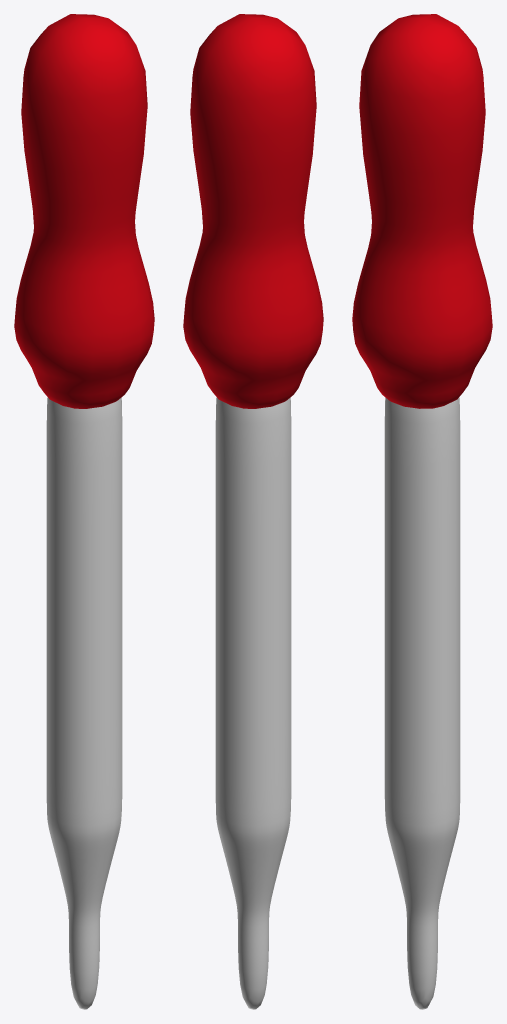
File: Pipet tetes.fbx
3 renders of one model, left to right at view 1: azimuth 30°, elevation 25°; view 2: azimuth 210°, elevation 25°; view 3: azimuth 330°, elevation 25°, orthographic.
Visible parts, largest first — view 1: Cube.055; view 2: Cube.055; view 3: Cube.055.
Part boxes in pixels (bbox=[...]): Cube.055: bbox=[14, 14, 154, 1009]; Cube.055: bbox=[183, 14, 323, 1009]; Cube.055: bbox=[352, 14, 492, 1009].
Size of the model in its own units: 0.00753 by 0.0591 by 0.00753.
